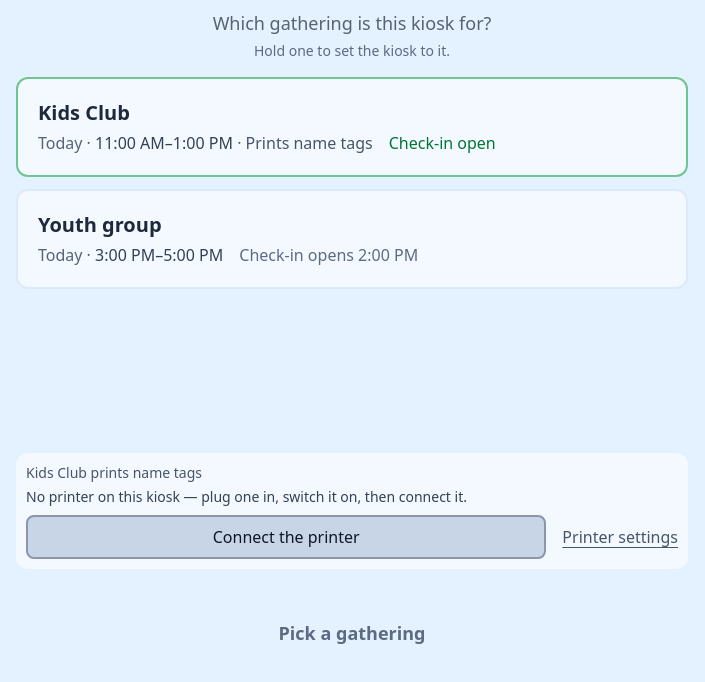
Scenario: the printer strip › says what the commit will cost, without taking anything away from it
This screenshot has width=705, height=682.
Press the mouse on the button "Kids Club" at (84, 112), box [16,77,688,177]
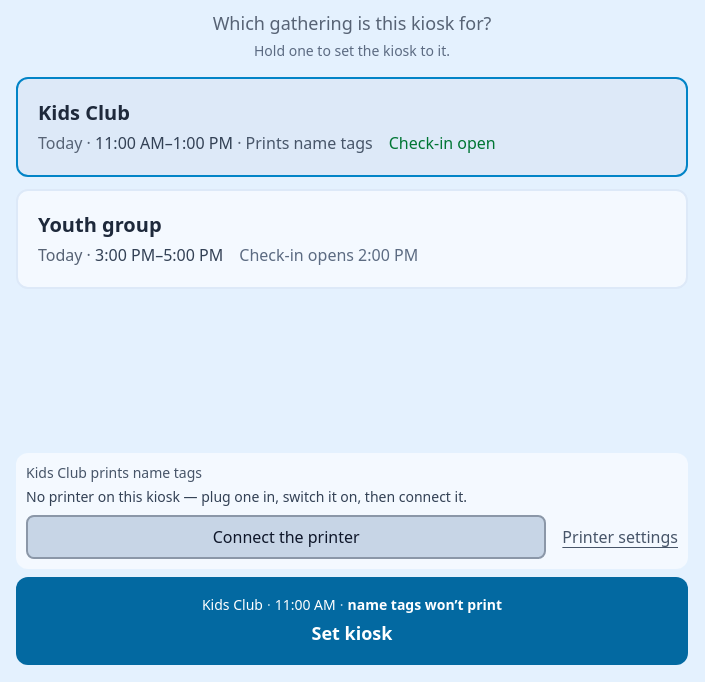
Now the text "name tags won’t print" is shown, box [348,595,502,615]
Now the button "Set kiosk" is shown, box [16,577,688,665]
